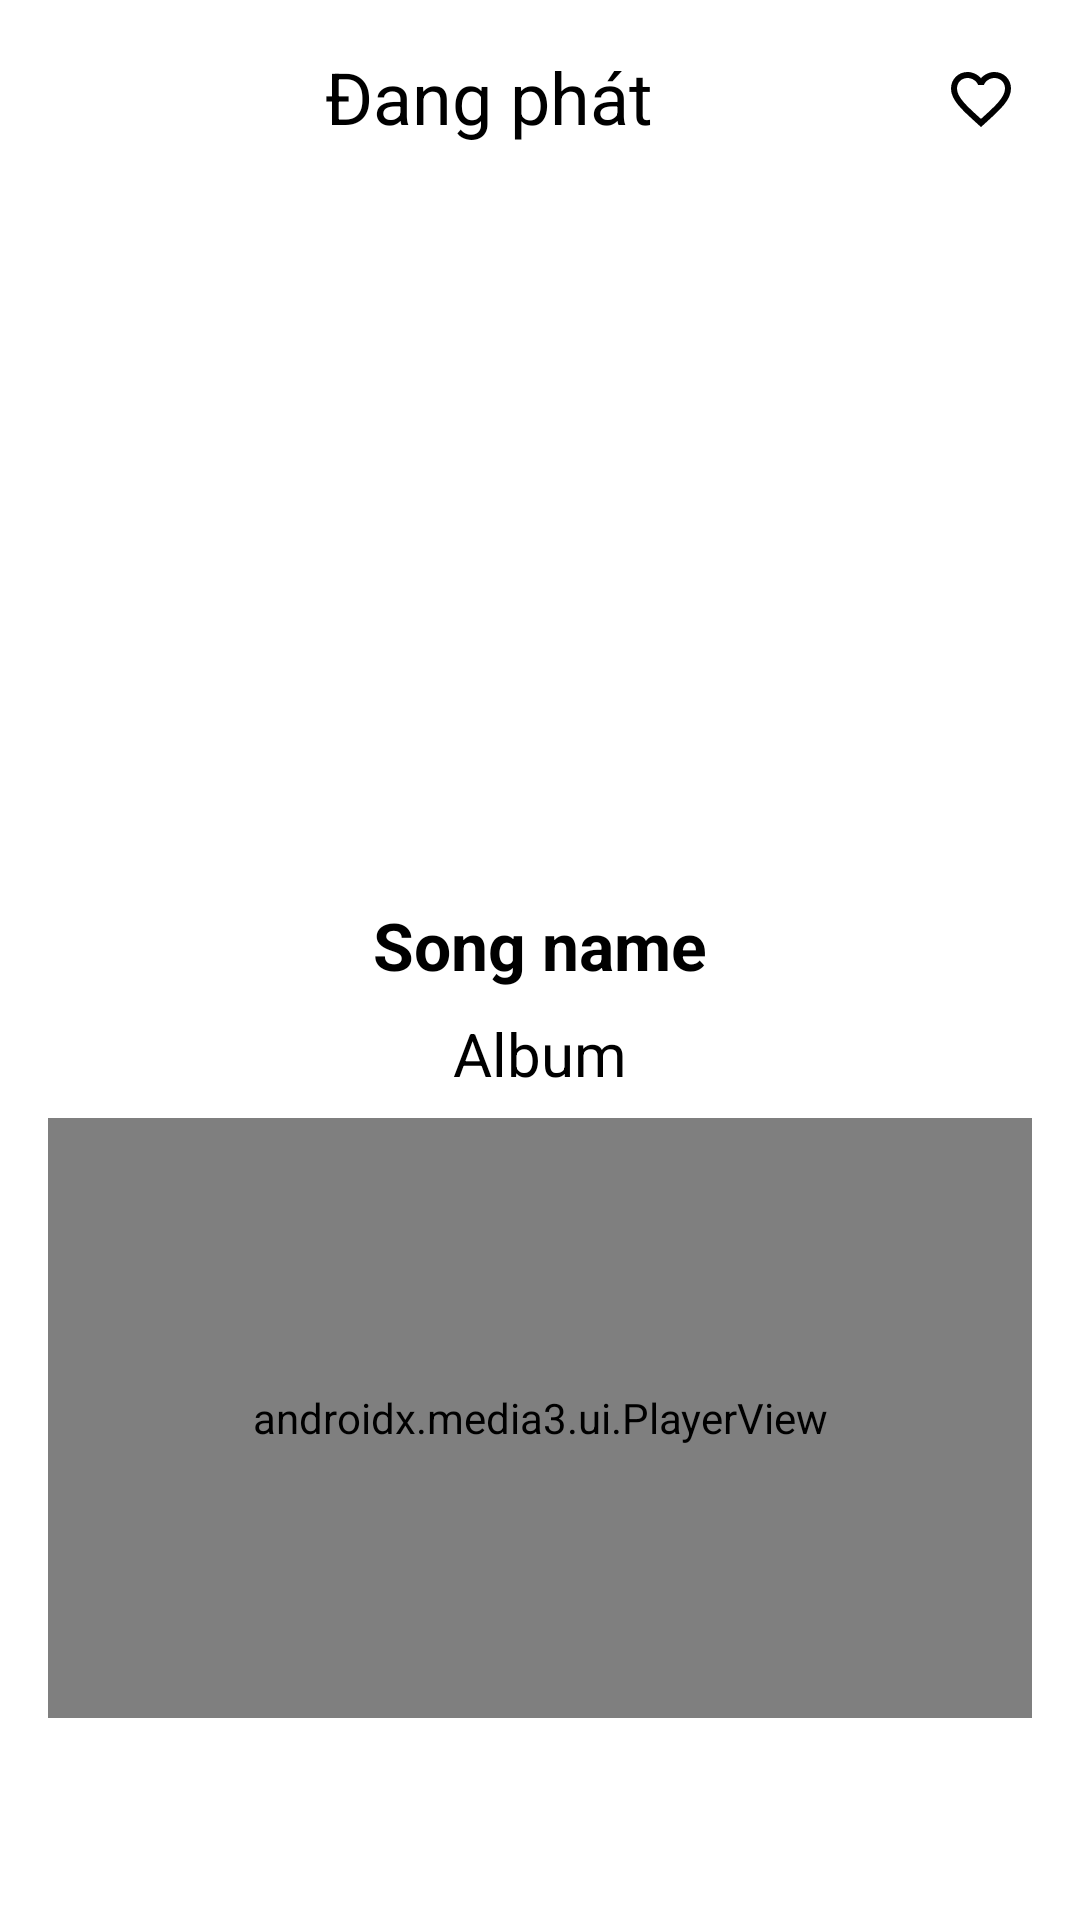

Screen size 1080px×1920px. Icon name, then its box in pixels as [left=x1, top=y1, right=x2, bottom=y2]:
favorite border: [left=951, top=72, right=1011, bottom=127]
